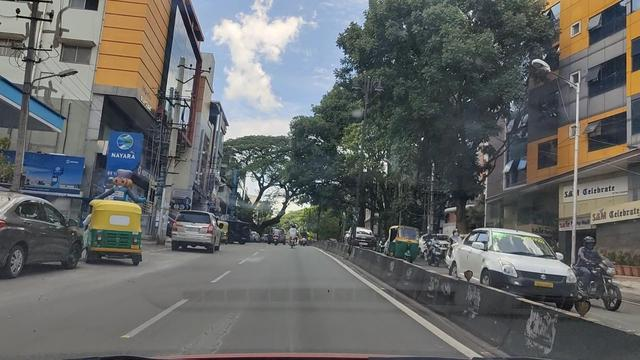LMV: (89, 196, 144, 259)
RoadDamages: (182, 297, 260, 353)
